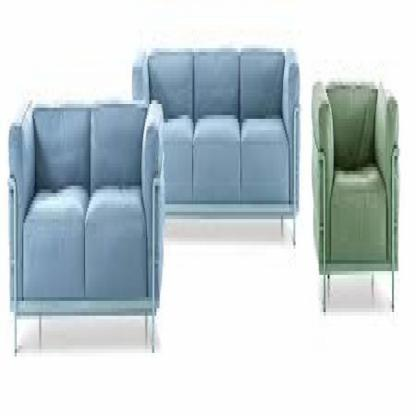Sofa: (5, 73, 176, 387), (126, 23, 308, 276), (314, 61, 406, 333)
